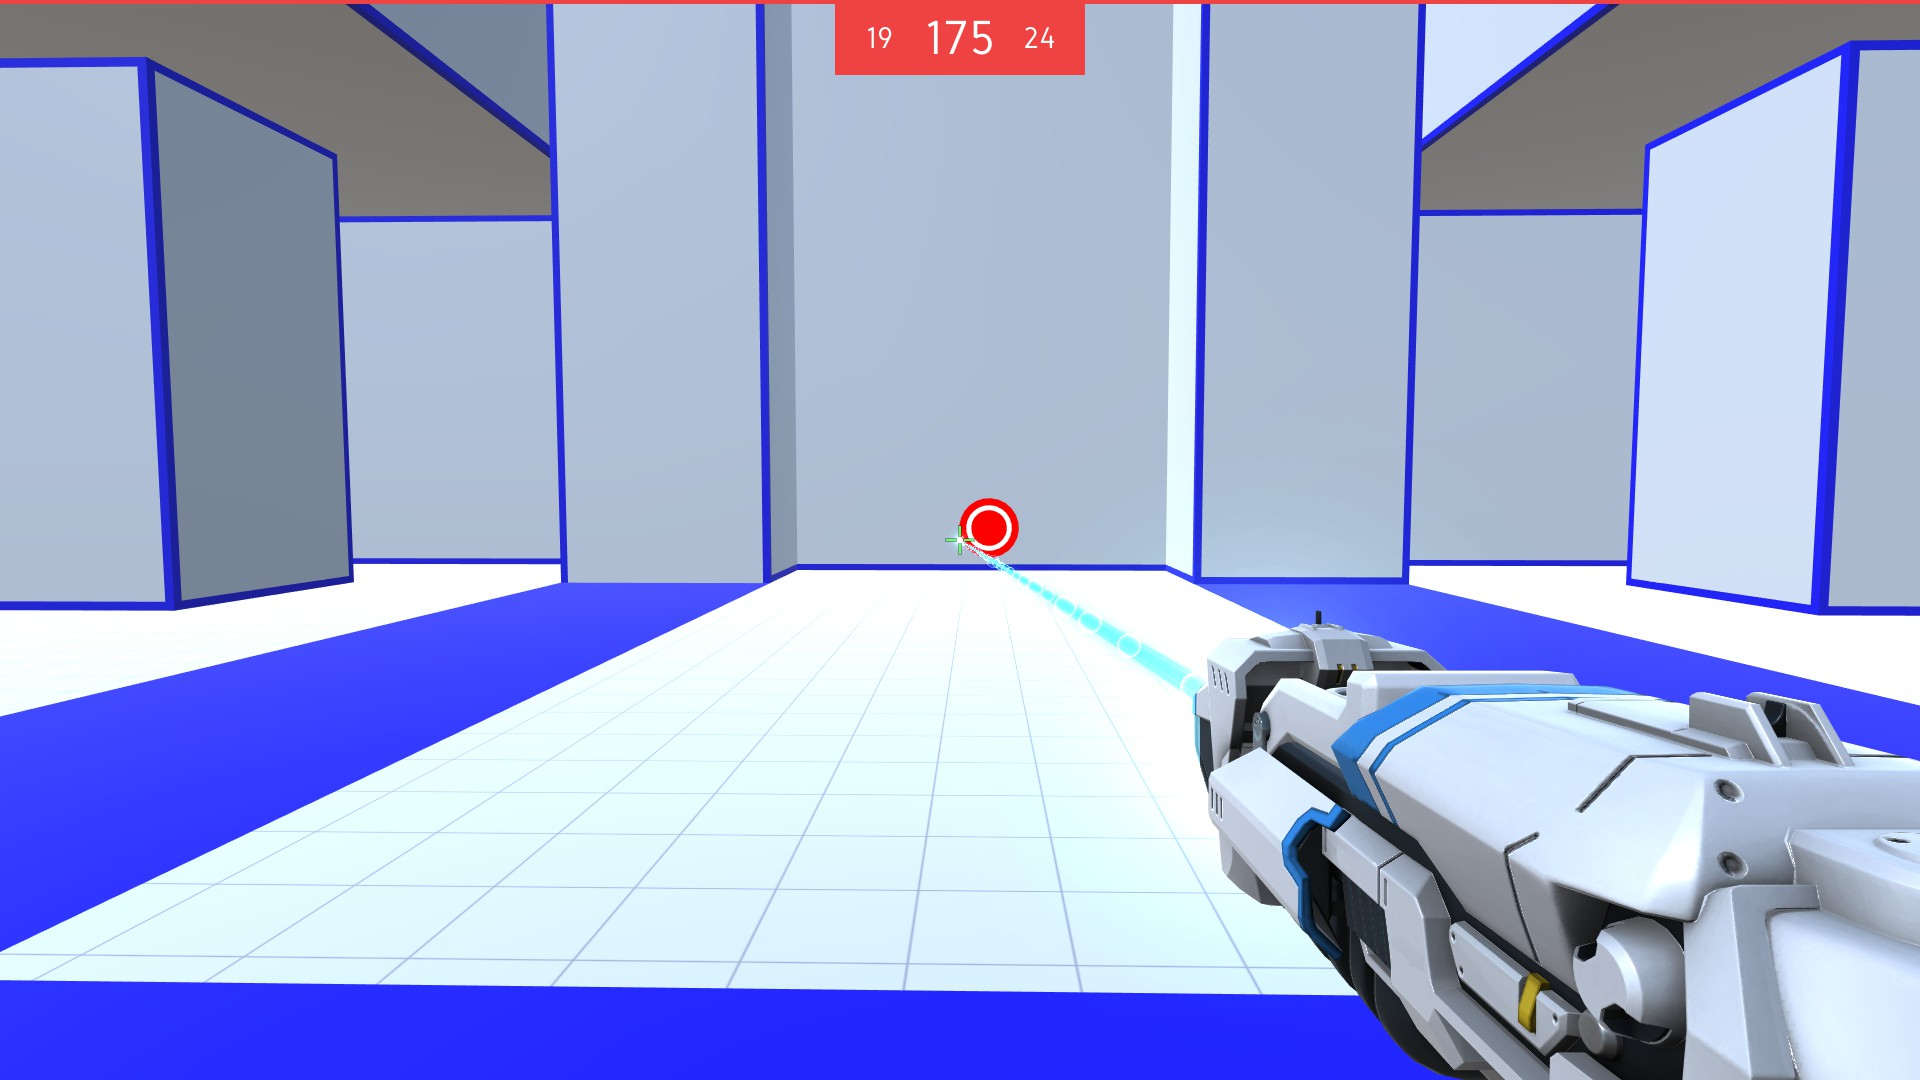target: (955, 498, 1025, 563)
